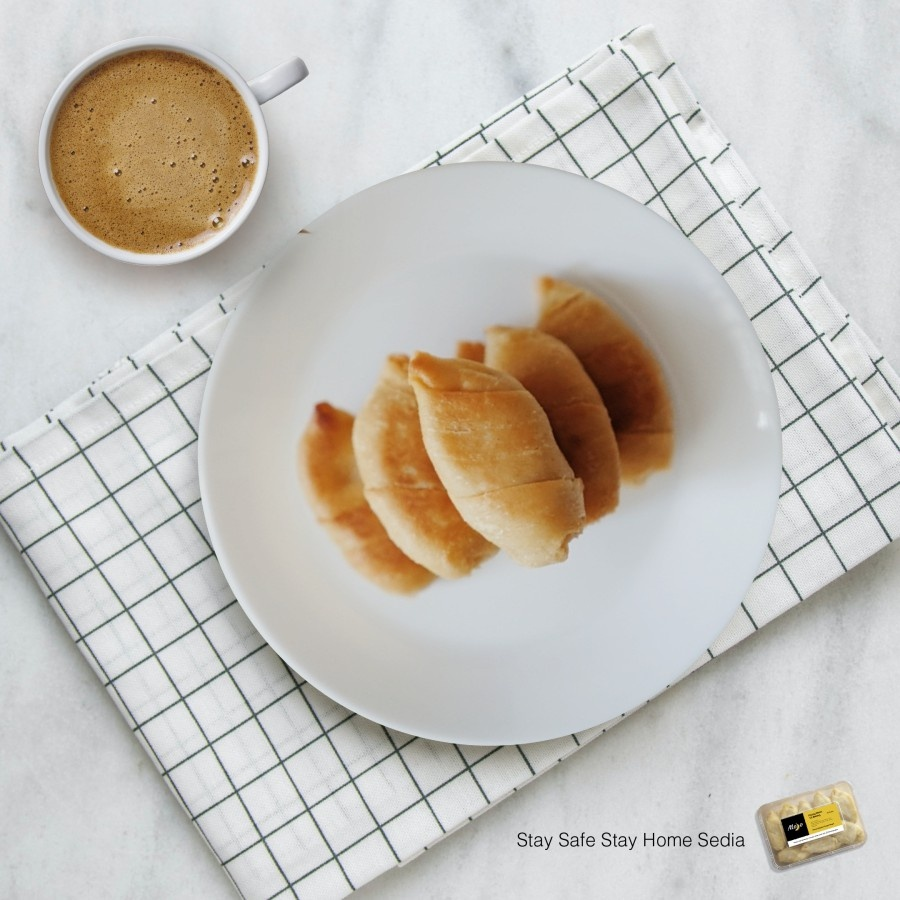pisang_molen: (411, 350, 584, 564)
